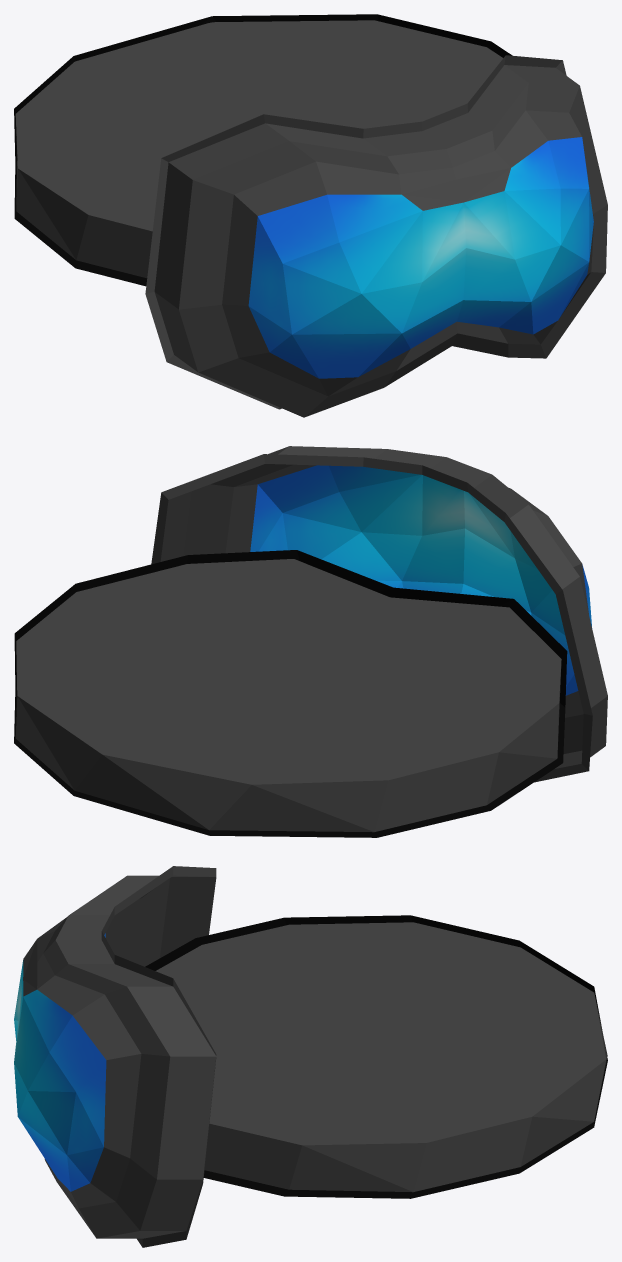
The model's file is 护目镜.fbx.
The picture shows the model from 3 angles, top to bottom: view 1: azimuth 30°, elevation 25°; view 2: azimuth 150°, elevation 25°; view 3: azimuth 270°, elevation 25°; orthographic projection. The views are drawn at different scales.
Parts seen in each view (by area): view 1: 睡眠眼罩.001; view 2: 睡眠眼罩.001; view 3: 睡眠眼罩.001.
Part boxes in pixels (bbox=[...]): 睡眠眼罩.001: bbox=[14, 14, 607, 417]; 睡眠眼罩.001: bbox=[14, 446, 607, 837]; 睡眠眼罩.001: bbox=[14, 866, 607, 1247].
Bounding box in the file's own units: 0.5322 × 0.2956 × 0.5907.
